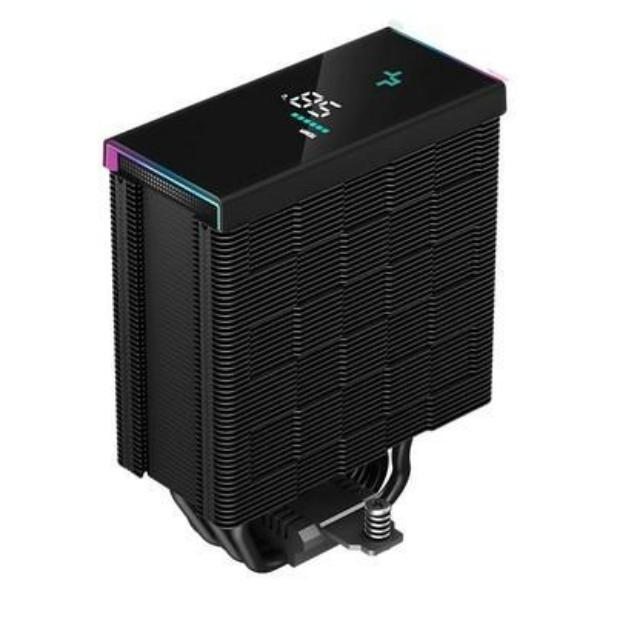CPU_Fan: (100, 24, 506, 572)
